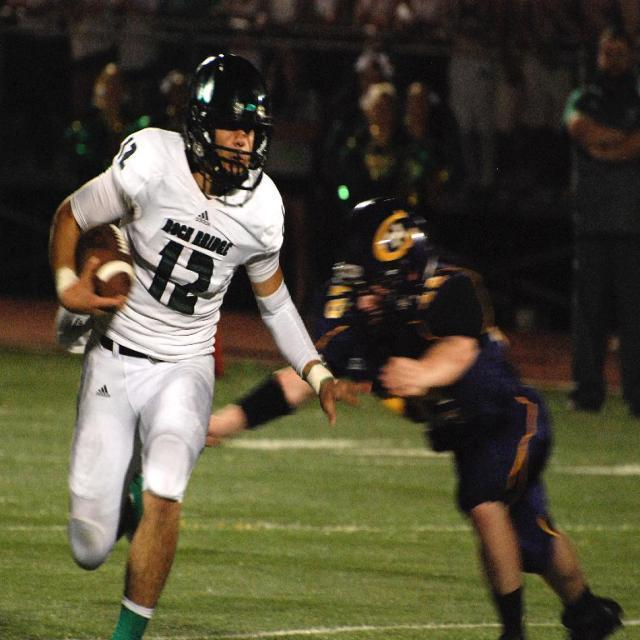ball: (75, 226, 130, 300)
